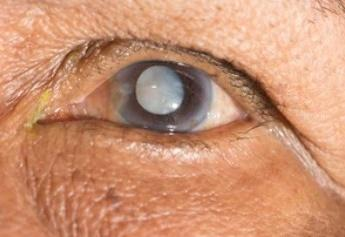eye: (117, 60, 213, 136)
